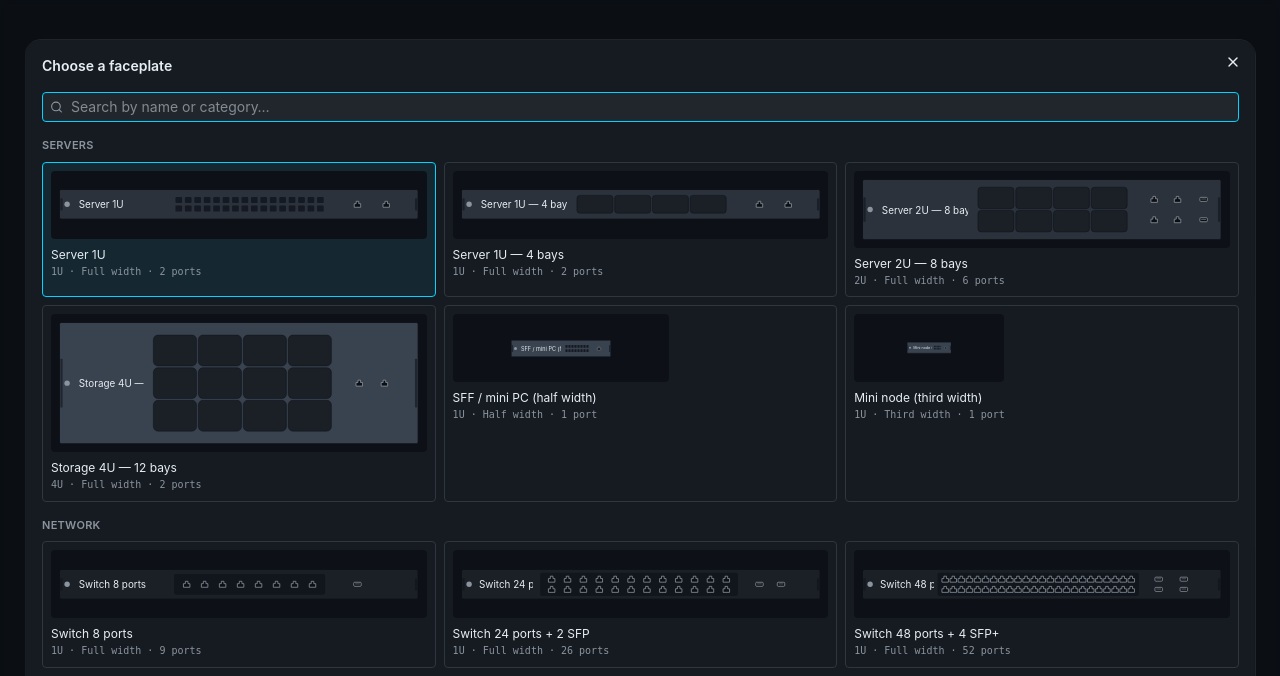
it: FaceplatePicker › says so when nothing matches
Type "zzz" into the field named "Search faceplates" at coordinates (640, 107), box 42,92 -> 1238,122
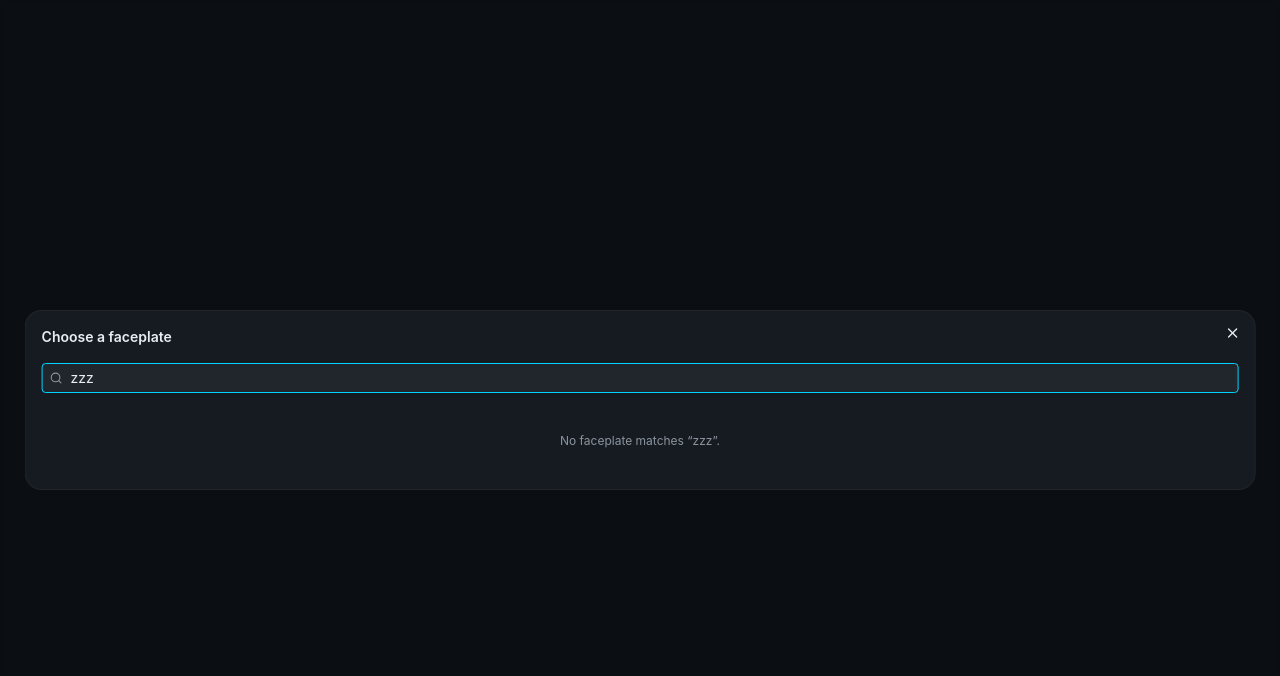
Check: the text "No faceplate matches “zzz”." is shown, box 560,433 -> 720,448
